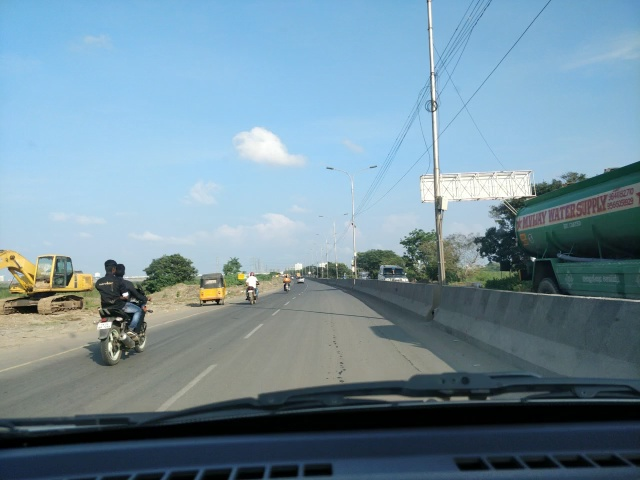auto: (194, 253, 234, 317)
car: (372, 258, 417, 295), (293, 270, 307, 288)
motorbike: (76, 251, 165, 378), (242, 266, 263, 305), (281, 267, 295, 296)
truck: (510, 163, 639, 293)
